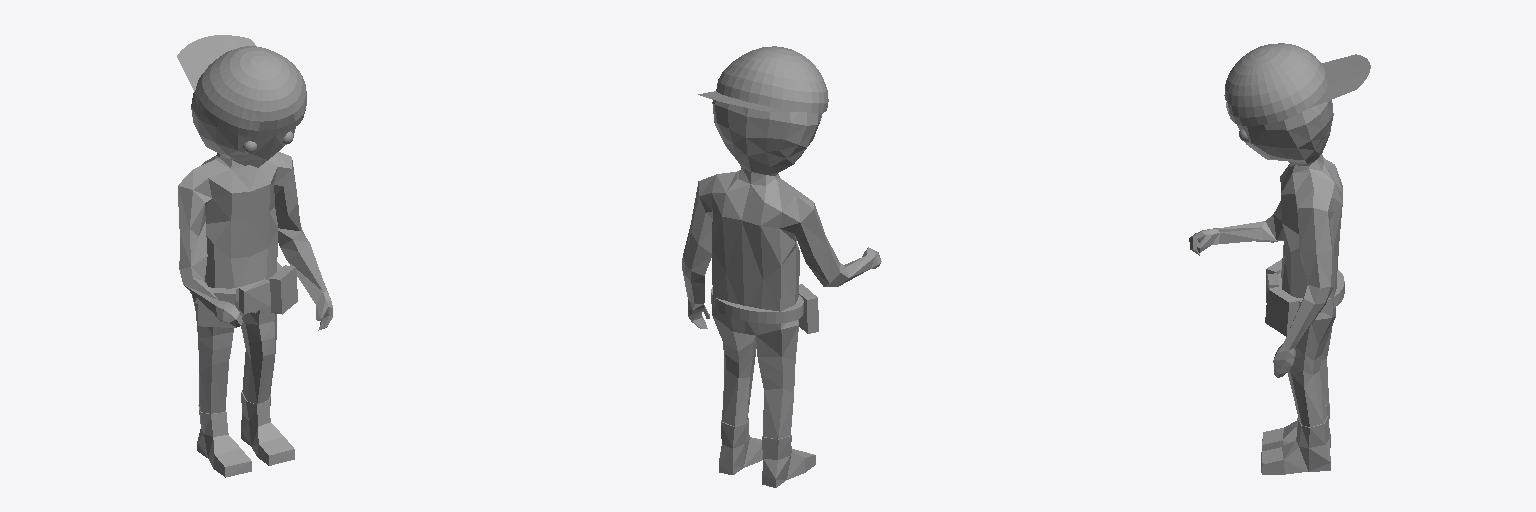
Rendered from Main_Character_Pickup_Paint_10.obj.
3 views of the same model, side by side, from view 1: azimuth 30°, elevation 25°; view 2: azimuth 150°, elevation 25°; view 3: azimuth 270°, elevation 25° (orthographic).
Visible parts, largest first — view 1: Main_Character_Test.003_Main_Character_Test.004; view 2: Main_Character_Test.003_Main_Character_Test.004; view 3: Main_Character_Test.003_Main_Character_Test.004.
Boxes of the visible parts, box(x1,y1,x2,y2) form: Main_Character_Test.003_Main_Character_Test.004: box(177, 35, 332, 477); Main_Character_Test.003_Main_Character_Test.004: box(682, 46, 881, 487); Main_Character_Test.003_Main_Character_Test.004: box(1189, 43, 1370, 474).
Bounding box in the file's own units: 1.54 × 3.93 × 1.58.